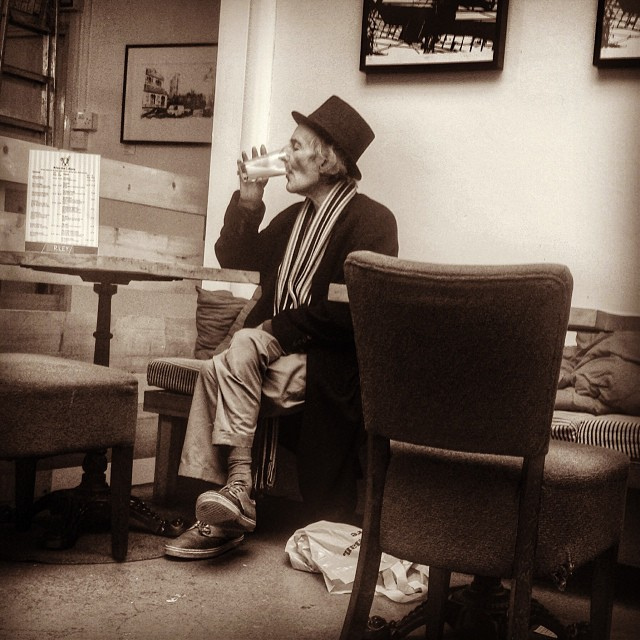glass of milk: (237, 148, 290, 186)
